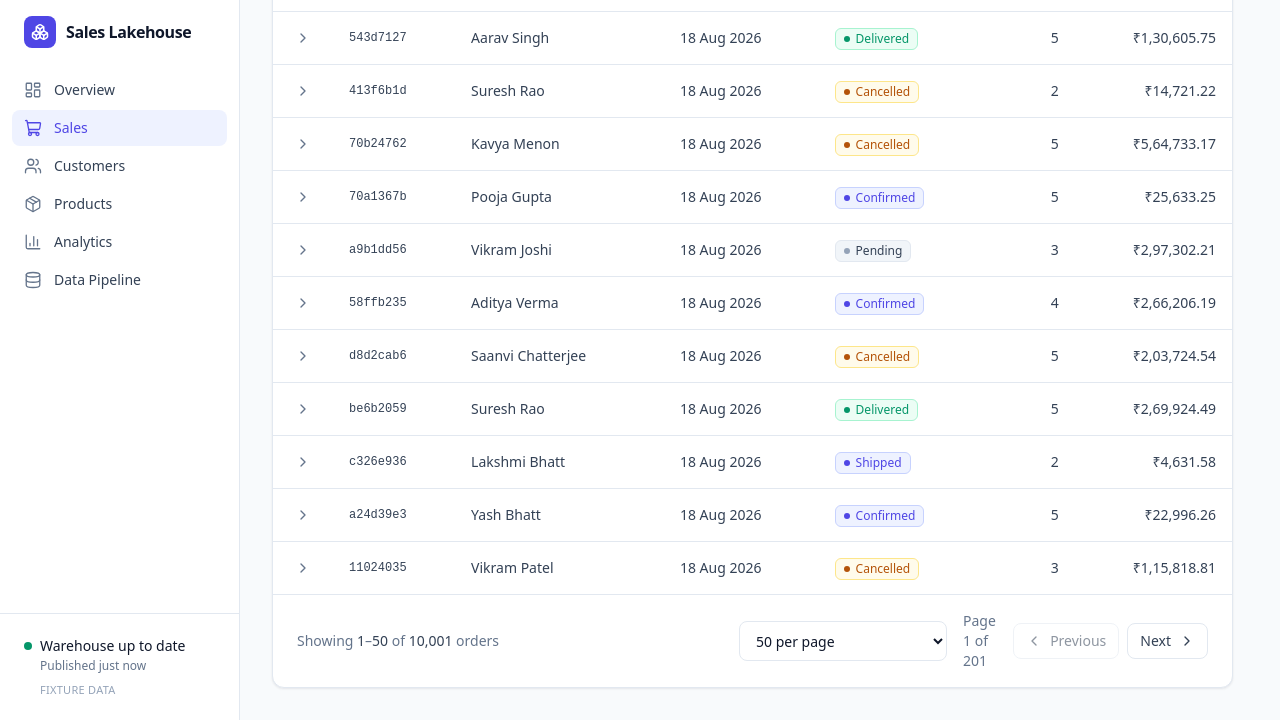
Scenario: order history › pages forward without losing the total
This screenshot has width=1280, height=720.
(page scrolled)
Click the button "Next".
click(1168, 641)  # box [1127, 623, 1208, 659]
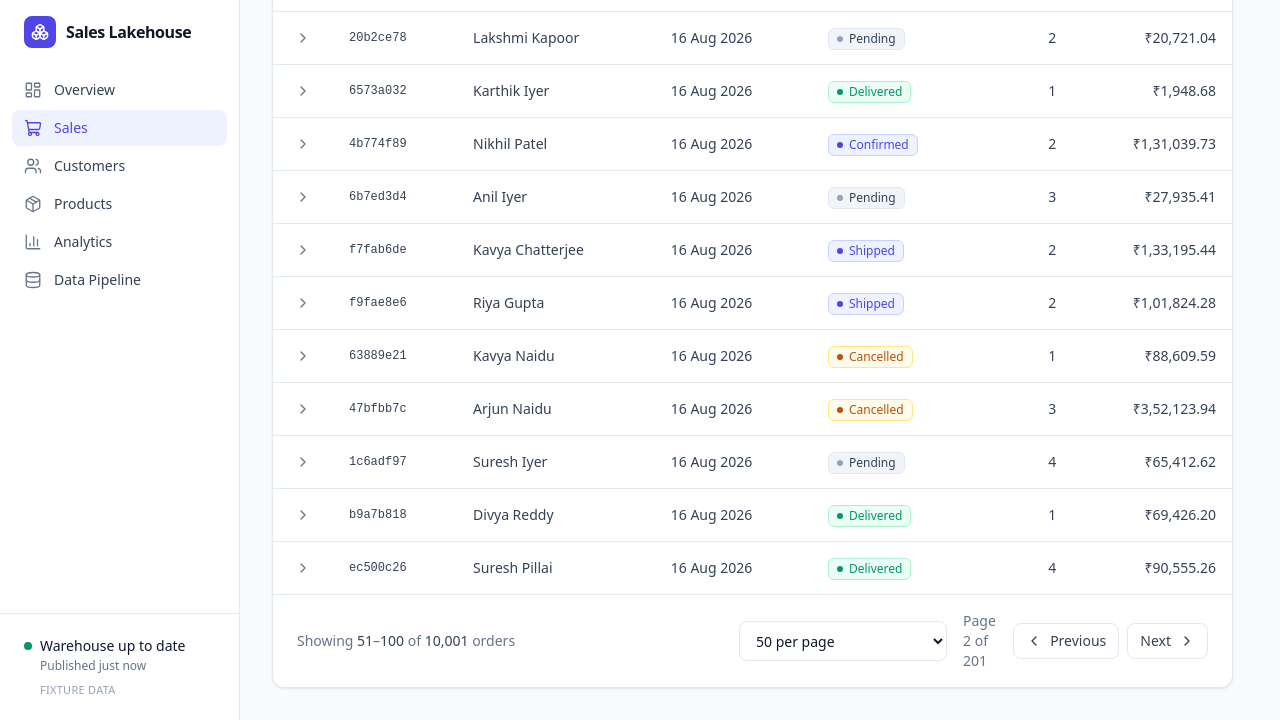
Expected: the text "Showing 51–100 of 10,001 orders" is shown, [297, 631, 515, 651]
Expected: the button "Previous" is enabled, [1013, 623, 1119, 659]
